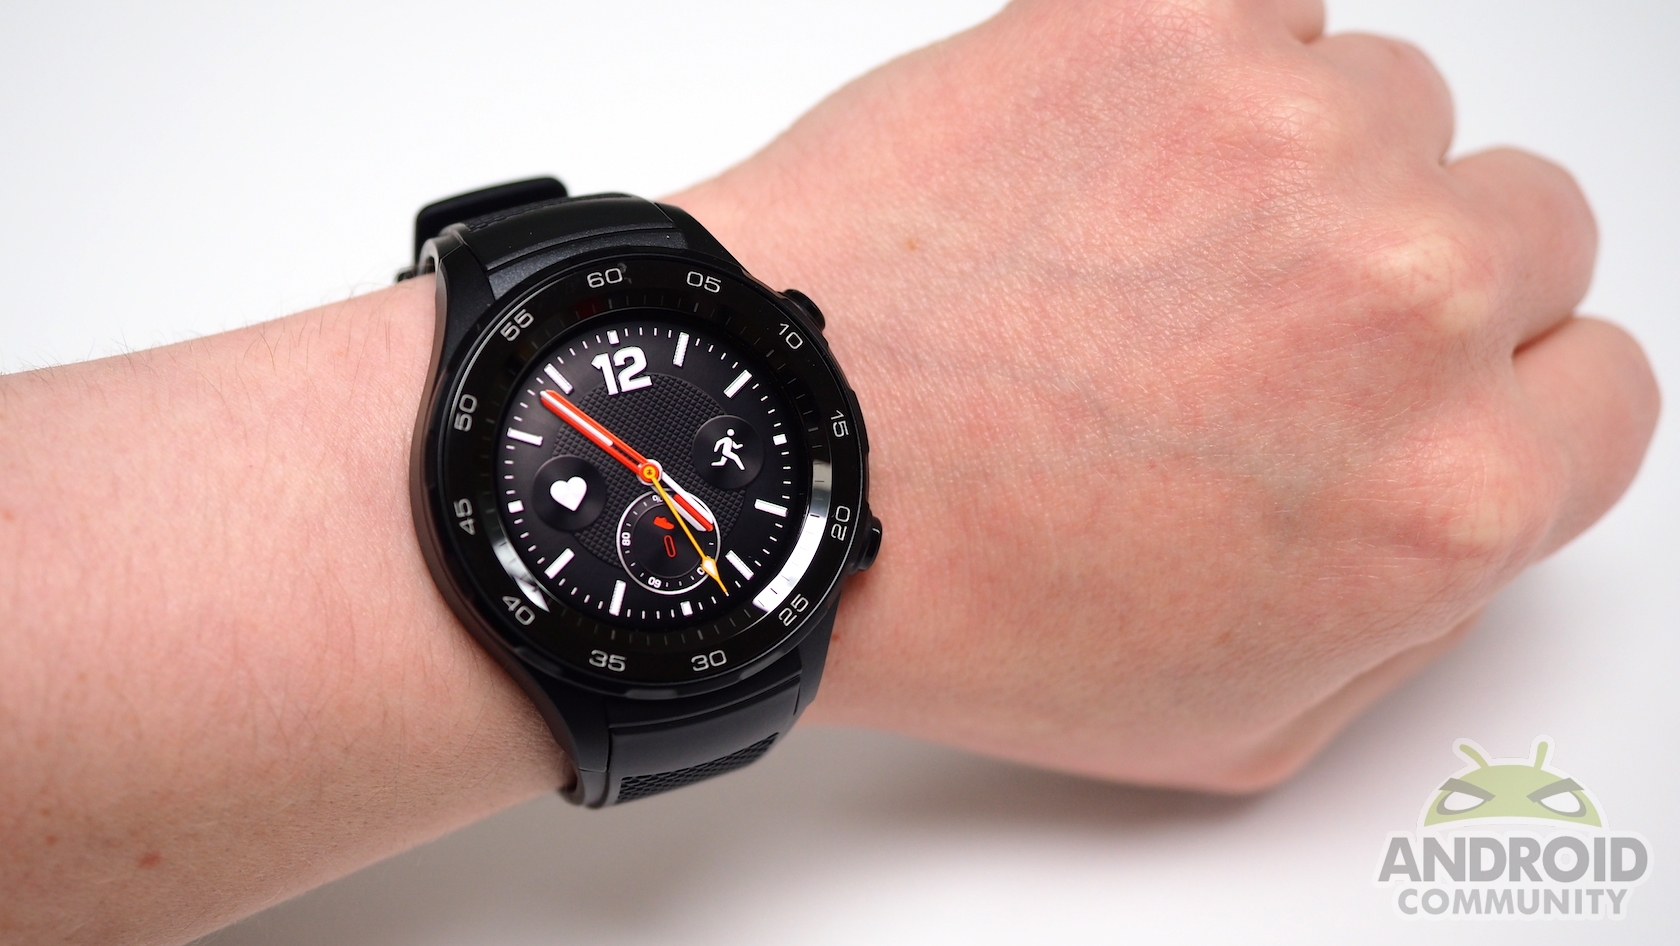clock: (472, 298, 826, 645)
